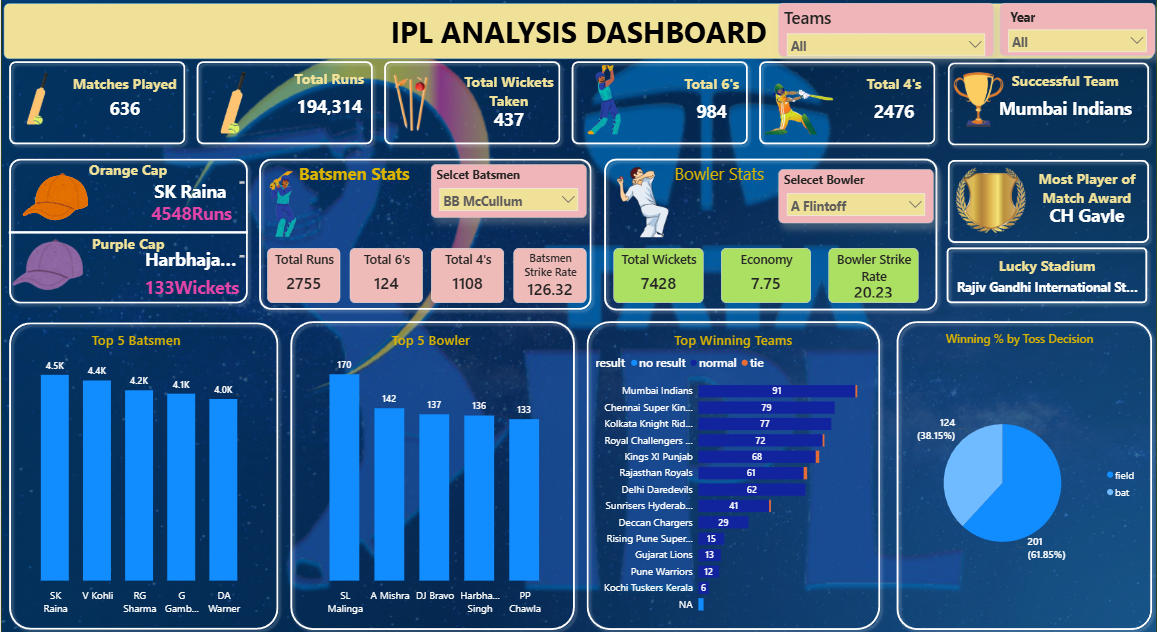

This screenshot's page, from the dashboard's own definition file:
{"tool":"powerbi","page":{"name":"Page 1","canvas":[1850,1020],"ordinal":0},"visuals":[{"type":"shape","box":[4,8,1841,90],"z":0},{"type":"shape","box":[4.9,92.7,300,151.2],"z":1000},{"type":"slicer","fields":{"Values":["Date_Table.Year"]},"box":[1597.6,7.3,248.8,85],"z":2000},{"type":"card","title":"Total Runs ","fields":{"Values":["Sum(deliveries - deliveries csv.total_runs)"]},"box":[446.3,112.2,158.5,92.7],"z":3000},{"type":"shape","box":[304.9,92.7,300,151.2],"z":4000},{"type":"shape","box":[604.9,92.7,300,151.2],"z":5000},{"type":"card","title":"Matches Played","fields":{"Values":["CountNonNull(matches (1) - matches (1) csv.id)"]},"box":[92.7,119.5,212.2,85.4],"z":6000},{"type":"card","title":"Total Wickets Taken","fields":{"Values":["Count(deliveries - deliveries csv.player_dismissed)"]},"box":[719.5,117.1,185.4,92.7],"z":7000},{"type":"shape","box":[1505,93,340,151],"z":8000},{"type":"card","title":"Successful Team","fields":{"Values":["Min(matches (1) - matches (1) csv.winner)"]},"box":[1582,115,242,93],"z":9000},{"type":"shape","box":[1505,249,340,151],"z":10000},{"type":"card","title":"Most Player of Match Award","fields":{"Values":["Min(matches (1) - matches (1) csv.player_of_match)"]},"box":[1649,271,175,93],"z":11000},{"type":"shape","box":[904.9,92.7,300,151.2],"z":12000},{"type":"card","title":"Total 6''s","fields":{"Values":["CountNonNull(deliveries - deliveries csv.batsman_runs)"]},"box":[1070.7,119.5,134.1,92.7],"z":13000},{"type":"shape","box":[1204.9,92.7,300,151.2],"z":14000},{"type":"card","title":"Total 4''s","fields":{"Values":["CountNonNull(deliveries - deliveries csv.batsman_runs)"]},"box":[1351.2,119.5,153.7,92.7],"z":15000},{"type":"shape","box":[4.9,248.8,400,250],"z":16000},{"type":"shape","box":[404.9,248.8,550,260],"z":17000},{"type":"shape","box":[12.2,358.5,382.9,34.1],"z":18000},{"type":"textbox","title":"Orange Cap","box":[12.2,258.5,382.9,43.9],"z":19000},{"type":"textbox","title":"Purple Cap","box":[12.2,375.6,382.9,43.9],"z":20000},{"type":"card","fields":{"Values":["Min(deliveries - deliveries csv.batsman)"]},"box":[217,287,170,45],"z":21000},{"type":"card","fields":{"Values":["deliveries - deliveries csv.Orange Cap Holder runs"]},"box":[219.5,324.4,170,43.9],"z":22000},{"type":"card","fields":{"Values":["Min(deliveries - deliveries csv.bowler)"]},"box":[217,398,171,43],"z":23000},{"type":"card","fields":{"Values":["deliveries - deliveries csv.Purple Cap Holder Wicket"]},"box":[219.5,441.5,170.7,43.9],"z":24000},{"type":"shape","box":[956.1,248.8,551.2,261],"z":25000},{"type":"slicer","title":"Selcet Batsmen","fields":{"Values":["deliveries - deliveries csv.batsman"]},"box":[687.8,265.9,248.8,85.4],"z":26000},{"type":"card","title":"Total Runs","fields":{"Values":["Sum(deliveries - deliveries csv.batsman_runs)"]},"box":[426.8,400,117.1,87.8],"z":27000},{"type":"card","title":"Batsmen Strike Rate","fields":{"Values":["deliveries - deliveries csv.Batsmen Strike Rate"]},"box":[819.5,400,117.1,87.8],"z":28000},{"type":"card","title":"Total 6''s","fields":{"Values":["CountNonNull(deliveries - deliveries csv.batsman_runs)"]},"box":[557.7,400,117.1,87.8],"z":29000},{"type":"card","title":"Total 4''s","fields":{"Values":["Sum(deliveries - deliveries csv.batsman_runs)"]},"box":[688.6,400,117.1,87.8],"z":30000},{"type":"slicer","title":"Selecet Bowler","fields":{"Values":["deliveries - deliveries csv.batsman"]},"box":[1243,273,248,86],"z":31000},{"type":"card","title":"Total Wickets","fields":{"Values":["Sum(deliveries - deliveries csv.Is_Wicket)"]},"box":[980.5,400,143.9,87.8],"z":32000},{"type":"card","title":"Economy","fields":{"Values":["deliveries - deliveries csv.Bowler Economy"]},"box":[1152.4,400,143.9,87.8],"z":33000},{"type":"card","title":"Bowler Strike Rate","fields":{"Values":["deliveries - deliveries csv.Bowler Strike Rate"]},"box":[1324.4,400,143.9,87.8],"z":34000},{"type":"textbox","box":[453.7,258.5,222,58.5],"z":35000},{"type":"textbox","box":[1053.7,258.5,190.2,51.2],"z":36000},{"type":"pieChart","title":"Winning % by Toss Decision","fields":{"Y":["CountNonNull(matches (1) - matches (1) csv.winner)"],"Category":["matches (1) - matches (1) csv.toss_decision"]},"box":[1431.7,531.7,395.1,463.4],"z":37000},{"type":"columnChart","title":"Top 5 Batsmen","fields":{"Category":["deliveries - deliveries csv.batsman"],"Y":["Sum(deliveries - deliveries csv.batsman_runs)"]},"box":[19.5,531.7,392.7,463.4],"z":38000},{"type":"shape","box":[454.4,507.3,473.2,512.2],"z":39000},{"type":"shape","box":[4.9,509.8,448.8,509.8],"z":40000},{"type":"shape","box":[928.4,507.3,487.8,512.2],"z":41000},{"type":"columnChart","title":"Top 5 Bowler","fields":{"Category":["deliveries - deliveries csv.bowler"],"Y":["Sum(deliveries - deliveries csv.Is_Wicket)"]},"box":[478,531.7,419.5,463.4],"z":42000},{"type":"barChart","title":"Top Winning Teams","fields":{"Category":["matches (1) - matches (1) csv.winner"],"Y":["CountNonNull(matches (1) - matches (1) csv.winner)"],"Series":["matches (1) - matches (1) csv.result"]},"box":[946.3,531.7,451.2,463.4],"z":43000},{"type":"image","box":[24.4,273.2,129.3,90.2],"z":44000},{"type":"image","box":[12.2,358.5,129.3,139],"z":45000},{"type":"image","box":[302.4,112.2,139,109.8],"z":46000},{"type":"image","box":[956.1,265.9,141.5,122],"z":47000},{"type":"image","box":[373.2,270.7,143.9,119.5],"z":48000},{"type":"image","box":[898,98,151,129],"z":49000},{"type":"image","box":[1209.8,112.2,131.7,117.1],"z":50000},{"type":"image","box":[592.7,112.2,126.8,117.1],"z":51000},{"type":"shape","box":[1424.4,507.3,426.8,512.2],"z":52000},{"type":"image","box":[1507.3,241.5,158.5,151.2],"z":53000},{"type":"image","box":[0,92.7,117.1,136.6],"z":54000},{"type":"image","box":[1500,95.1,129.3,126.8],"z":55000},{"type":"slicer","title":"Teams","fields":{"Values":["matches (1) - matches (1) csv.team1"]},"box":[1243.9,7.3,343.9,85.4],"z":56000},{"type":"card","title":"Lucky Stadium","fields":{"Values":["matches (1) - matches (1) csv.Lucky Stadium 1"]},"box":[1524.4,412.2,300,75.6],"z":57000},{"type":"shape","box":[1504.9,390.2,339,107.3],"z":58000}]}

Visuals, with their boxes in screenshot pixels (x1, y1, x2, y2), scaled from the page's 1850x1020 canvas onto the 1157x632 screenshot:
shape: box=[3, 5, 1154, 61]
shape: box=[3, 57, 191, 151]
slicer - Date_Table.Year: box=[999, 5, 1155, 57]
"Total Runs " card: box=[279, 70, 378, 127]
shape: box=[191, 57, 378, 151]
shape: box=[378, 57, 566, 151]
"Matches Played" card: box=[58, 74, 191, 127]
"Total Wickets Taken" card: box=[450, 73, 566, 130]
shape: box=[941, 58, 1154, 151]
"Successful Team" card: box=[989, 71, 1141, 129]
shape: box=[941, 154, 1154, 248]
"Most Player of Match Award" card: box=[1031, 168, 1141, 226]
shape: box=[566, 57, 754, 151]
"Total 6''s" card: box=[670, 74, 753, 131]
shape: box=[754, 57, 941, 151]
"Total 4''s" card: box=[845, 74, 941, 131]
shape: box=[3, 154, 253, 309]
shape: box=[253, 154, 597, 315]
shape: box=[8, 222, 247, 243]
"Orange Cap" textbox: box=[8, 160, 247, 187]
"Purple Cap" textbox: box=[8, 233, 247, 260]
card - Min(deliveries - deliveries csv.batsman): box=[136, 178, 242, 206]
card - deliveries - deliveries csv.Orange Cap Holder runs: box=[137, 201, 244, 228]
card - Min(deliveries - deliveries csv.bowler): box=[136, 247, 243, 273]
card - deliveries - deliveries csv.Purple Cap Holder Wicket: box=[137, 274, 244, 301]
shape: box=[598, 154, 943, 316]
"Selcet Batsmen" slicer: box=[430, 165, 586, 218]
"Total Runs" card: box=[267, 248, 340, 302]
"Batsmen Strike Rate" card: box=[513, 248, 586, 302]
"Total 6''s" card: box=[349, 248, 422, 302]
"Total 4''s" card: box=[431, 248, 504, 302]
"Selecet Bowler" slicer: box=[777, 169, 932, 222]
"Total Wickets" card: box=[613, 248, 703, 302]
"Economy" card: box=[721, 248, 811, 302]
"Bowler Strike Rate" card: box=[828, 248, 918, 302]
textbox: box=[284, 160, 423, 196]
textbox: box=[659, 160, 778, 192]
"Winning % by Toss Decision" pieChart: box=[895, 329, 1142, 617]
"Top 5 Batsmen" columnChart: box=[12, 329, 258, 617]
shape: box=[284, 314, 580, 631]
shape: box=[3, 316, 284, 631]
shape: box=[581, 314, 886, 631]
"Top 5 Bowler" columnChart: box=[299, 329, 561, 617]
"Top Winning Teams" barChart: box=[592, 329, 874, 617]
image: box=[15, 169, 96, 225]
image: box=[8, 222, 88, 308]
image: box=[189, 70, 276, 138]
image: box=[598, 165, 686, 240]
image: box=[233, 168, 323, 242]
image: box=[562, 61, 656, 141]
image: box=[757, 70, 839, 142]
image: box=[371, 70, 450, 142]
shape: box=[891, 314, 1156, 631]
image: box=[943, 150, 1042, 243]
image: box=[0, 57, 73, 142]
image: box=[938, 59, 1019, 137]
"Teams" slicer: box=[778, 5, 993, 57]
"Lucky Stadium" card: box=[953, 255, 1141, 302]
shape: box=[941, 242, 1153, 308]
